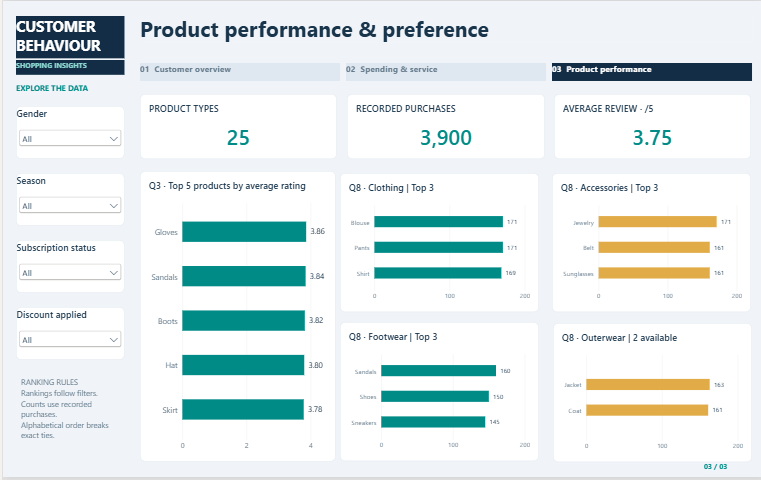

The dashboard page shown, as its layout file describes it:
{"tool":"powerbi","page":{"name":"03  Product performance","canvas":[1440,900],"ordinal":2},"visuals":[{"type":"textbox","box":[24,28,205,80],"z":1},{"type":"textbox","box":[24,112,205,28],"z":2},{"type":"textbox","box":[24,155,205,30],"z":3},{"type":"textbox","box":[258,25,1158,54],"z":4},{"type":"textbox","box":[258,79,1158,30],"z":5},{"type":"textbox","box":[258,118,378,34],"z":6},{"type":"textbox","box":[648,118,378,34],"z":7},{"type":"textbox","box":[1038,118,378,34],"z":8},{"type":"textbox","box":[258,870,1080,22],"z":9},{"type":"textbox","box":[1325,870,90,22],"z":10},{"type":"slicer","title":"Gender","fields":{"Values":["{\"Column\":{\"Expression\":{\"SourceRef\":{\"Entity\":\"customers\"}},\"Property\":\"gender\"}}"]},"box":[24,198,205,100],"z":11},{"type":"slicer","title":"Season","fields":{"Values":["{\"Column\":{\"Expression\":{\"SourceRef\":{\"Entity\":\"customers\"}},\"Property\":\"season\"}}"]},"box":[24,325,205,100],"z":12},{"type":"slicer","title":"Subscription status","fields":{"Values":["{\"Column\":{\"Expression\":{\"SourceRef\":{\"Entity\":\"customers\"}},\"Property\":\"subscription_status\"}}"]},"box":[24,452,205,100],"z":13},{"type":"slicer","title":"Discount applied","fields":{"Values":["{\"Column\":{\"Expression\":{\"SourceRef\":{\"Entity\":\"customers\"}},\"Property\":\"discount_applied\"}}"]},"box":[24,579,205,100],"z":14},{"type":"textbox","box":[34,711,185,145],"z":15},{"type":"card","title":"PRODUCT TYPES","fields":{"Values":["{\"Aggregation\":{\"Expression\":{\"Column\":{\"Expression\":{\"SourceRef\":{\"Entity\":\"customers\"}},\"Property\":\"item_purchased\"}},"]},"box":[258.9,175.7,372.3,122.8],"z":16},{"type":"card","title":"RECORDED PURCHASES","fields":{"Values":["{\"Measure\":{\"Expression\":{\"SourceRef\":{\"Entity\":\"customers\"}},\"Property\":\"Number of Customers\"}}"]},"box":[650.1,175.7,374.2,122.8],"z":17},{"type":"card","title":"AVERAGE REVIEW · /5","fields":{"Values":["{\"Measure\":{\"Expression\":{\"SourceRef\":{\"Entity\":\"customers\"}},\"Property\":\"Average Review Rating\"}}"]},"box":[1041.3,175.7,372.3,122.8],"z":18},{"type":"clusteredBarChart","title":"Q3 · Top 5 products by average rating","fields":{"Category":["{\"Column\":{\"Expression\":{\"SourceRef\":{\"Entity\":\"customers\"}},\"Property\":\"item_purchased\"}}"],"Y":["{\"Measure\":{\"Expression\":{\"SourceRef\":{\"Entity\":\"customers\"}},\"Property\":\"Average Review Rating\"}}"]},"box":[258.9,321.3,370,549],"z":19},{"type":"clusteredBarChart","title":"Q8 · Clothing | Top 3","fields":{"Category":["{\"Column\":{\"Expression\":{\"SourceRef\":{\"Entity\":\"customers\"}},\"Property\":\"item_purchased\"}}"],"Y":["{\"Measure\":{\"Expression\":{\"SourceRef\":{\"Entity\":\"customers\"}},\"Property\":\"Number of Customers\"}}"]},"box":[636.9,325,376,263],"z":20},{"type":"clusteredBarChart","title":"Q8 · Accessories | Top 3","fields":{"Category":["{\"Column\":{\"Expression\":{\"SourceRef\":{\"Entity\":\"customers\"}},\"Property\":\"item_purchased\"}}"],"Y":["{\"Measure\":{\"Expression\":{\"SourceRef\":{\"Entity\":\"customers\"}},\"Property\":\"Number of Customers\"}}"]},"box":[1037.5,325,376,263],"z":21},{"type":"clusteredBarChart","title":"Q8 · Footwear | Top 3","fields":{"Category":["{\"Column\":{\"Expression\":{\"SourceRef\":{\"Entity\":\"customers\"}},\"Property\":\"item_purchased\"}}"],"Y":["{\"Measure\":{\"Expression\":{\"SourceRef\":{\"Entity\":\"customers\"}},\"Property\":\"Number of Customers\"}}"]},"box":[636.9,606.6,376,263],"z":22},{"type":"clusteredBarChart","title":"Q8 · Outerwear | 2 available","fields":{"Category":["{\"Column\":{\"Expression\":{\"SourceRef\":{\"Entity\":\"customers\"}},\"Property\":\"item_purchased\"}}"],"Y":["{\"Measure\":{\"Expression\":{\"SourceRef\":{\"Entity\":\"customers\"}},\"Property\":\"Number of Customers\"}}"]},"box":[1039.4,608.5,376,263],"z":23}]}

Visuals, with their boxes in screenshot pixels (x1, y1, x2, y2), scaled from the page's 1440x900 canvas onto the 761x480 screenshot:
textbox: crop(13, 15, 121, 58)
textbox: crop(13, 60, 121, 75)
textbox: crop(13, 83, 121, 99)
textbox: crop(136, 13, 748, 42)
textbox: crop(136, 42, 748, 58)
textbox: crop(136, 63, 336, 81)
textbox: crop(342, 63, 542, 81)
textbox: crop(549, 63, 748, 81)
textbox: crop(136, 464, 707, 476)
textbox: crop(700, 464, 748, 476)
"Gender" slicer: crop(13, 106, 121, 159)
"Season" slicer: crop(13, 173, 121, 227)
"Subscription status" slicer: crop(13, 241, 121, 294)
"Discount applied" slicer: crop(13, 309, 121, 362)
textbox: crop(18, 379, 116, 457)
"PRODUCT TYPES" card: crop(137, 94, 334, 159)
"RECORDED PURCHASES" card: crop(344, 94, 541, 159)
"AVERAGE REVIEW · /5" card: crop(550, 94, 747, 159)
"Q3 · Top 5 products by average rating" clusteredBarChart: crop(137, 171, 332, 464)
"Q8 · Clothing | Top 3" clusteredBarChart: crop(337, 173, 535, 314)
"Q8 · Accessories | Top 3" clusteredBarChart: crop(548, 173, 747, 314)
"Q8 · Footwear | Top 3" clusteredBarChart: crop(337, 324, 535, 464)
"Q8 · Outerwear | 2 available" clusteredBarChart: crop(549, 325, 748, 465)
